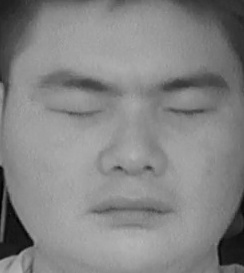blink: (51, 93, 106, 130), (165, 93, 216, 130)
mouth: (87, 186, 169, 230)
